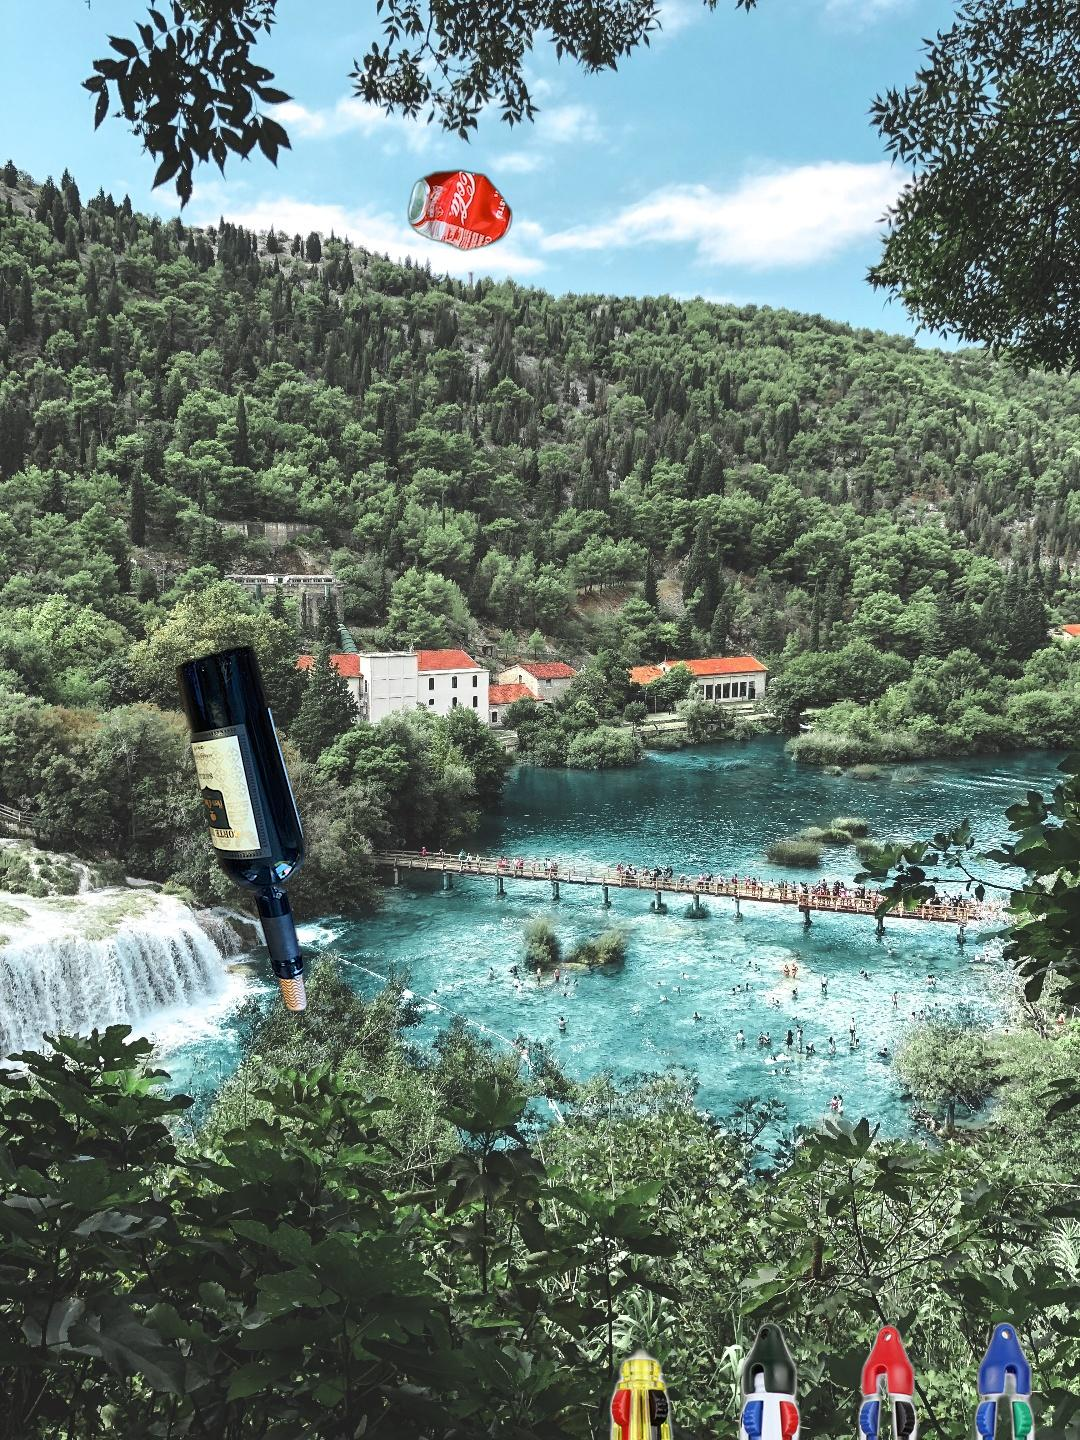glass: (171, 639, 311, 1017)
metal-cans: (404, 166, 517, 256)
penholder: (599, 1315, 1080, 1440)
